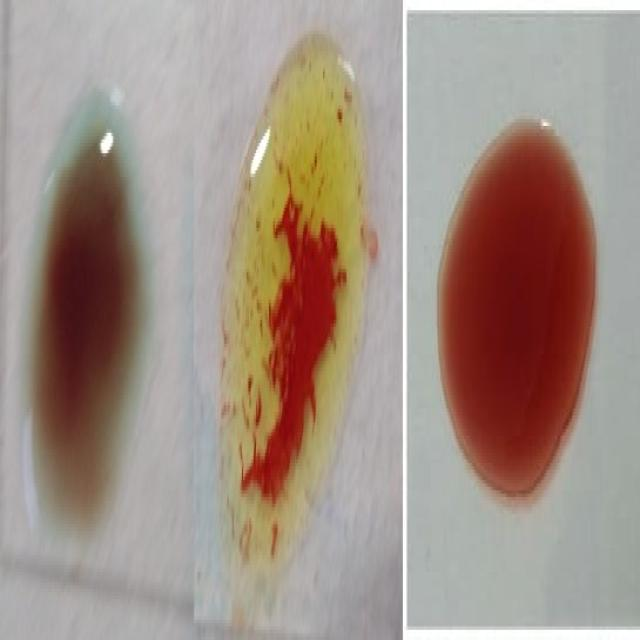B: (222, 42, 362, 585)
